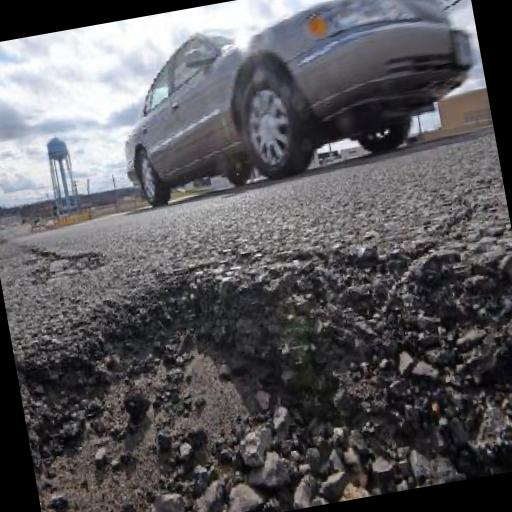pothole: (3, 203, 512, 512), (58, 246, 112, 276)
